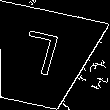L_S: (18, 30, 66, 86)
